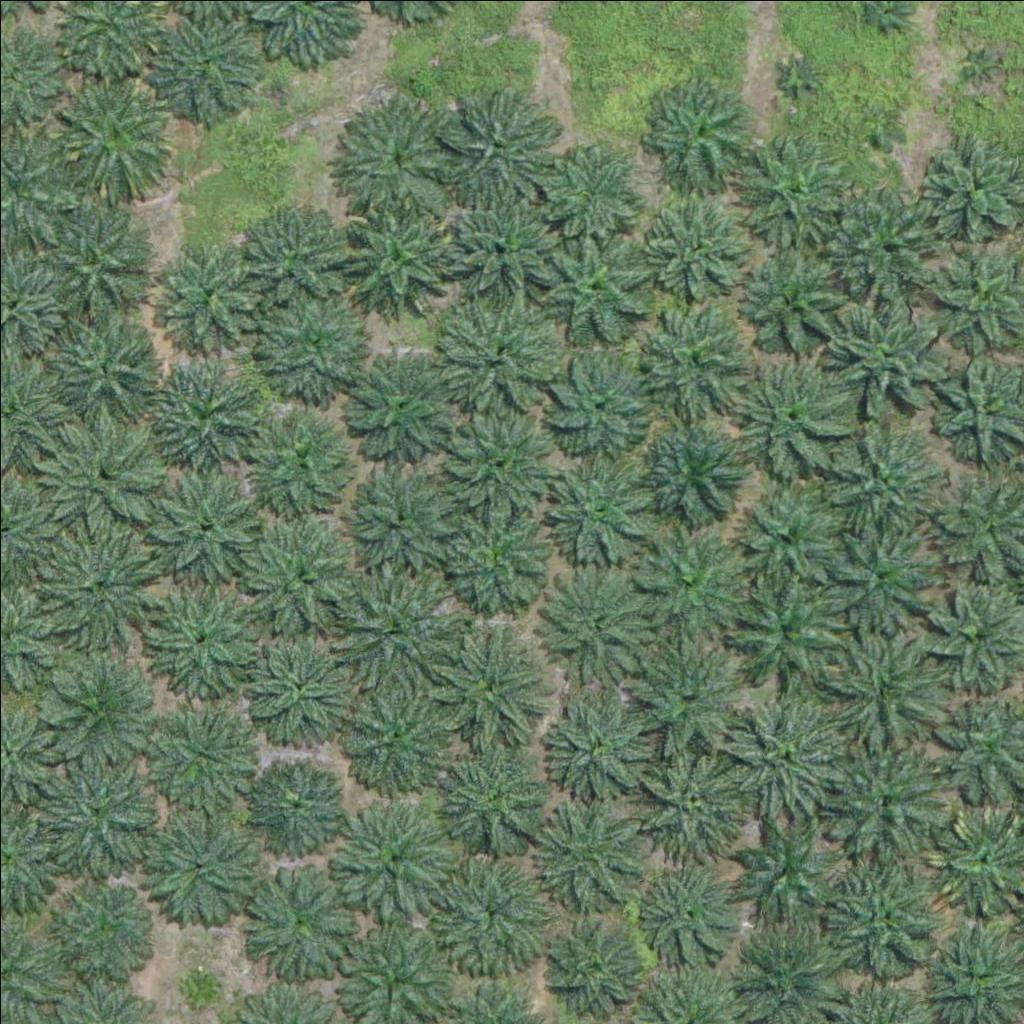Kelapa_Sawit: (32, 744, 157, 870), (333, 670, 458, 796), (426, 851, 551, 977), (427, 729, 552, 855), (427, 617, 552, 743), (632, 738, 757, 864), (624, 627, 749, 753), (728, 692, 853, 818), (820, 857, 945, 983), (822, 737, 947, 863), (832, 622, 957, 748), (816, 514, 941, 640), (818, 420, 943, 546), (823, 285, 948, 411), (823, 170, 948, 296), (726, 575, 851, 701), (722, 476, 847, 602), (726, 355, 851, 481), (736, 242, 861, 368), (634, 520, 759, 646), (540, 438, 665, 564), (537, 561, 662, 687), (535, 218, 660, 344), (430, 398, 555, 524), (431, 290, 556, 416), (435, 82, 560, 208), (249, 508, 374, 634), (336, 197, 461, 323), (332, 93, 457, 219), (39, 523, 164, 649), (43, 408, 168, 534), (335, 799, 460, 924), (430, 493, 555, 618), (244, 398, 369, 523), (255, 280, 380, 405), (52, 65, 177, 190), (646, 193, 759, 307), (634, 300, 747, 414), (533, 131, 646, 245), (42, 649, 155, 762), (148, 695, 261, 808), (145, 813, 258, 926), (642, 75, 755, 188), (631, 413, 744, 526), (347, 347, 460, 460), (346, 461, 459, 574), (333, 576, 446, 689), (241, 202, 354, 315), (242, 872, 354, 985), (232, 626, 344, 739), (546, 690, 658, 803), (530, 796, 642, 909), (736, 127, 848, 240), (542, 343, 654, 456), (450, 187, 562, 300), (151, 239, 263, 352), (144, 364, 256, 477), (152, 467, 264, 580), (147, 577, 259, 690), (47, 307, 159, 420), (40, 209, 152, 322), (51, 879, 151, 980), (244, 752, 344, 853), (542, 914, 642, 1015), (637, 864, 737, 965), (149, 13, 249, 114), (735, 824, 835, 924), (175, 959, 225, 1009), (773, 52, 823, 102), (957, 37, 1007, 87), (854, 106, 904, 156)
